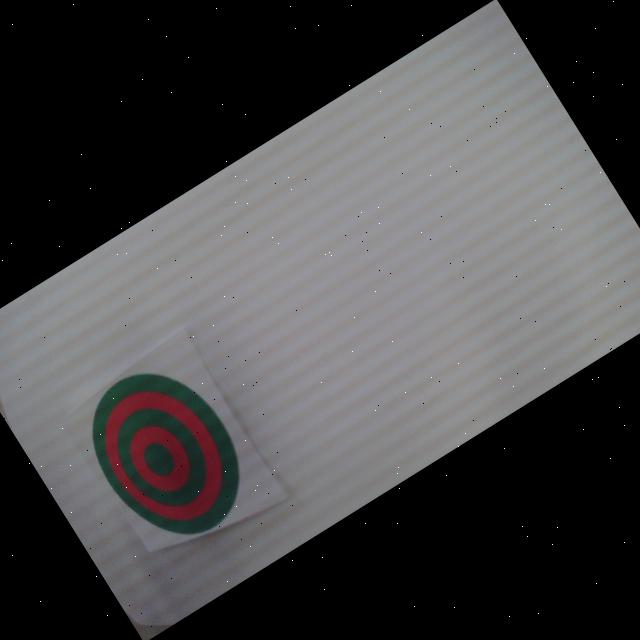COGNITIVE: (64, 344, 270, 564)
